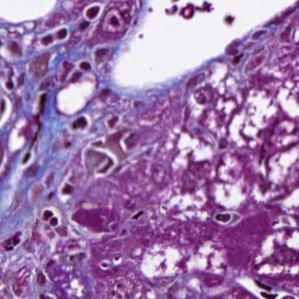inflammation: (37, 201, 65, 231), (63, 109, 94, 134)
